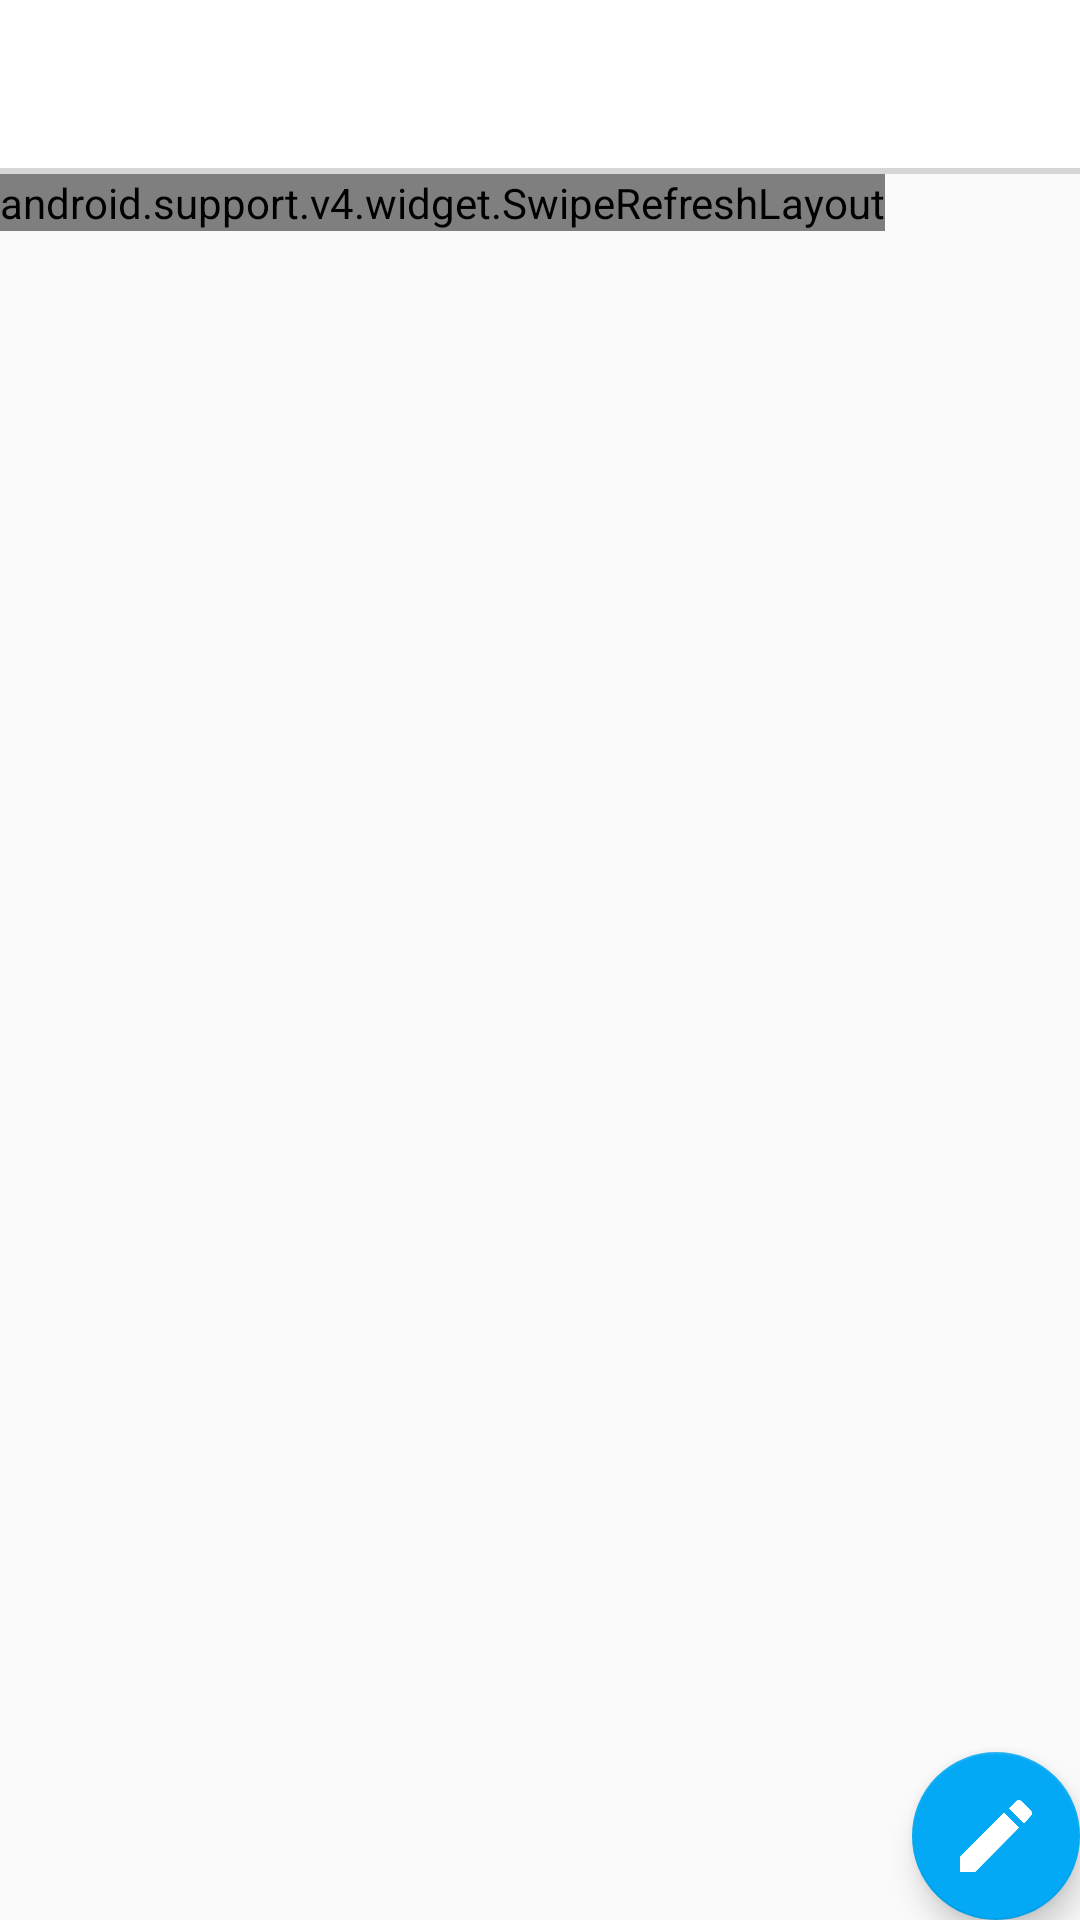

Icon bounding boxes for this 1080px x 1920px phone screenshot, format (x1, y1, x2, y2):
edit pencil: (912, 1752, 1080, 1920)
